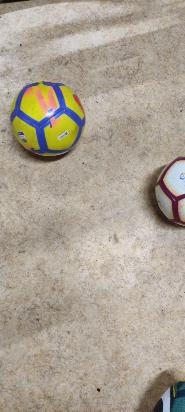Football mini: (8, 77, 89, 158)
